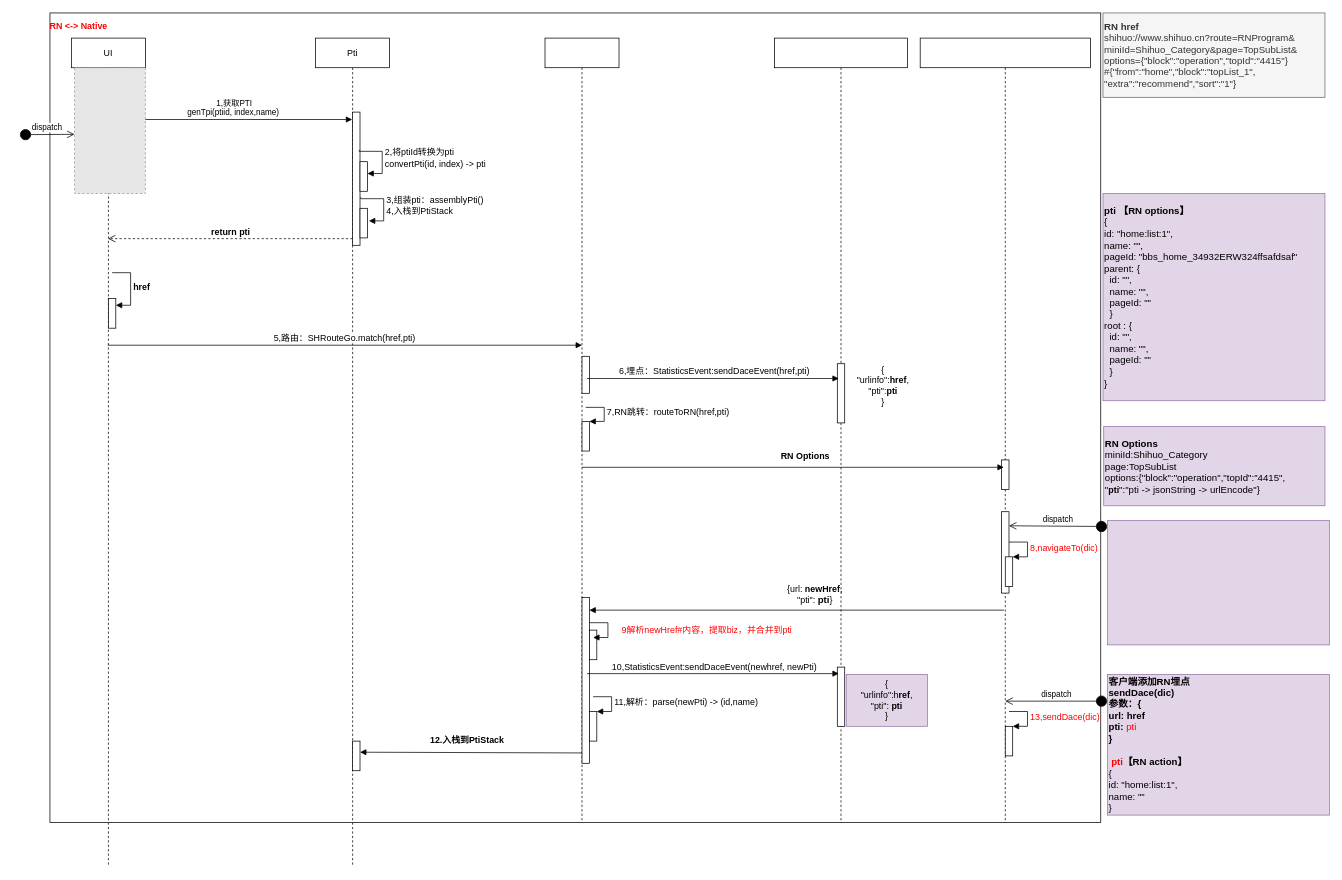
Some shapes in this 1342 by 880 pixel diagram are drawn without their labels. Grey dashed boxes stand in for pictures. Here are the shapes that lost their labels. From the top down, the box of each, then its label:
(544, 37, 619, 823): Route
(774, 37, 908, 823): StatisticsEvent 上传【sls】
(919, 37, 1090, 823): RN
(1107, 520, 1329, 645): 参数：{ url: href pti: pti } pti 【RN navigateTo】 { id: "home:list:1", name: ", }
